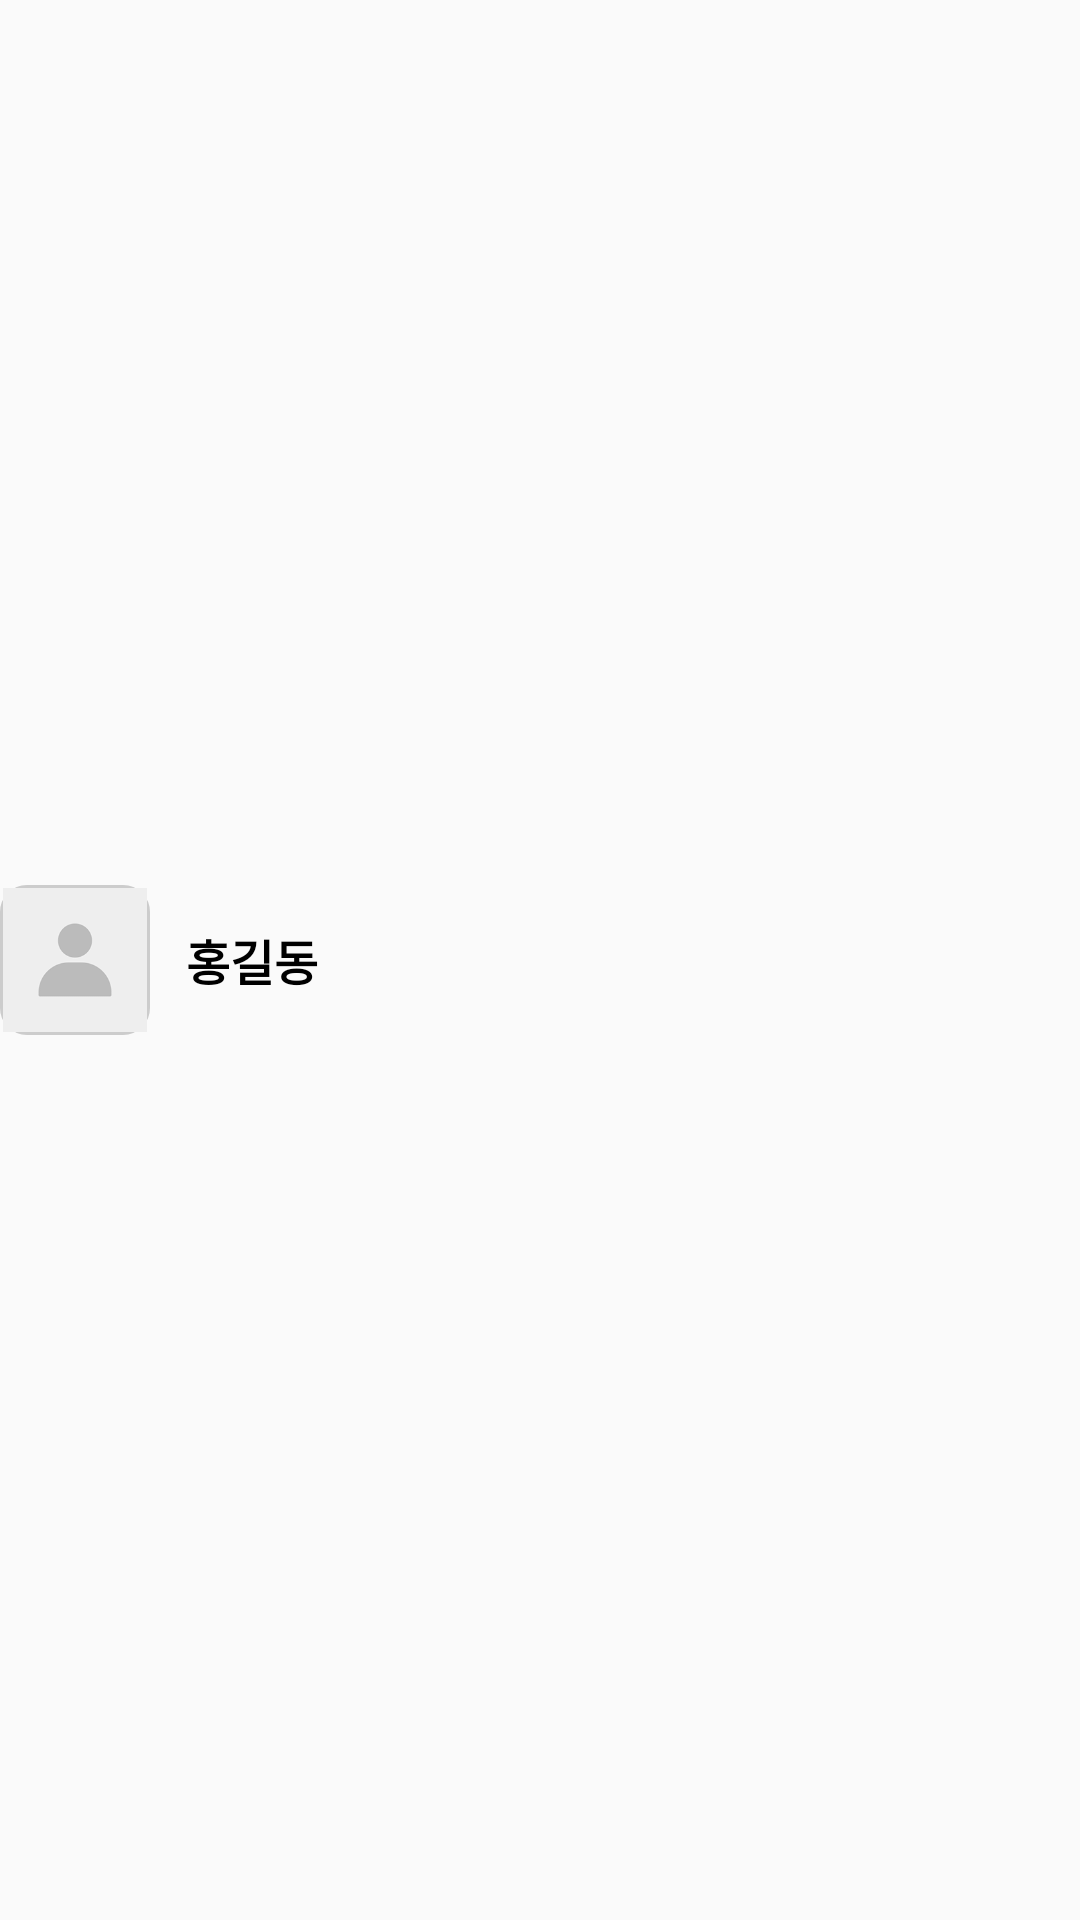

Icon click points for this 1080w x 1920h phone screenshot, format (x,y):
profile: (75,960)
